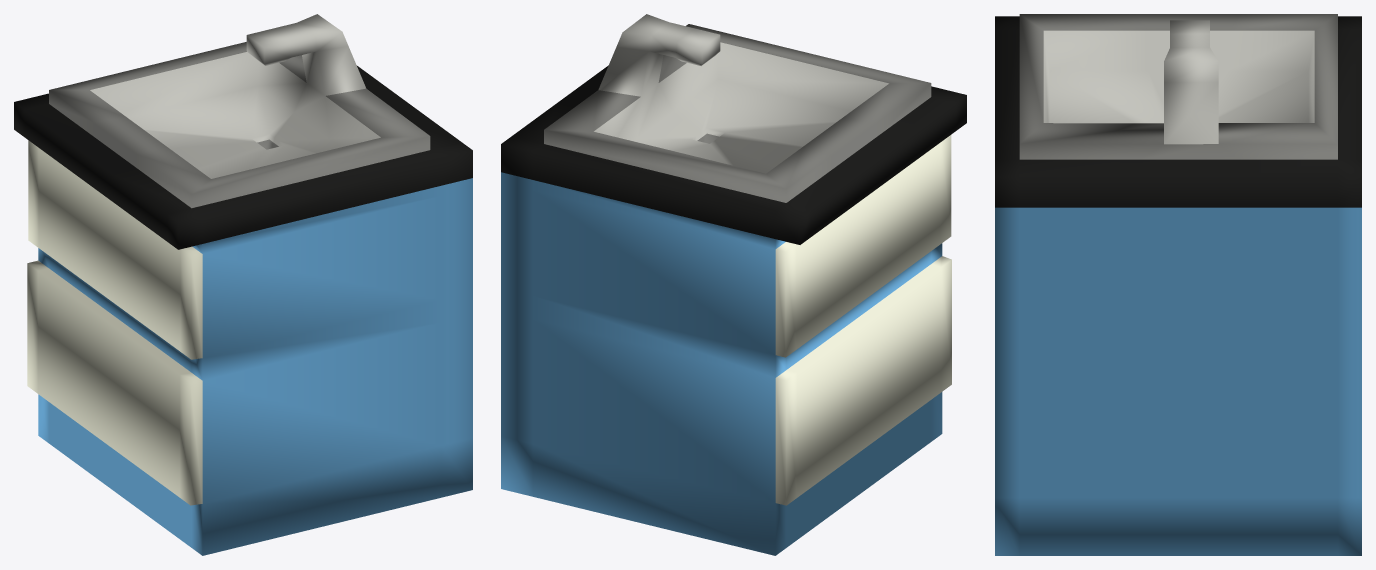
Rendered from SinkKitchen.fbx.
The picture shows the model from 3 angles, left to right: view 1: azimuth 30°, elevation 25°; view 2: azimuth 150°, elevation 25°; view 3: azimuth 270°, elevation 25°; orthographic projection. The views are drawn at different scales.
Visible parts, largest first — view 1: Cube.8174; view 2: Cube.8174; view 3: Cube.8174.
Boxes of the visible parts, left/top/right/bottom form: Cube.8174: left=14, top=14, right=472, bottom=555; Cube.8174: left=501, top=14, right=966, bottom=555; Cube.8174: left=995, top=14, right=1361, bottom=555.
Size of the model in its own units: 109 by 147 by 105.
Materials: 1 (1 with a texture image).
